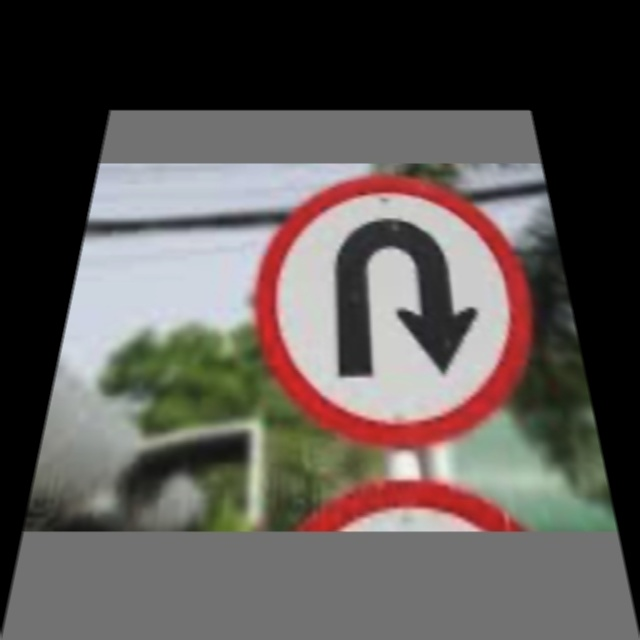U_Turn_Ahead: (251, 183, 550, 428)
